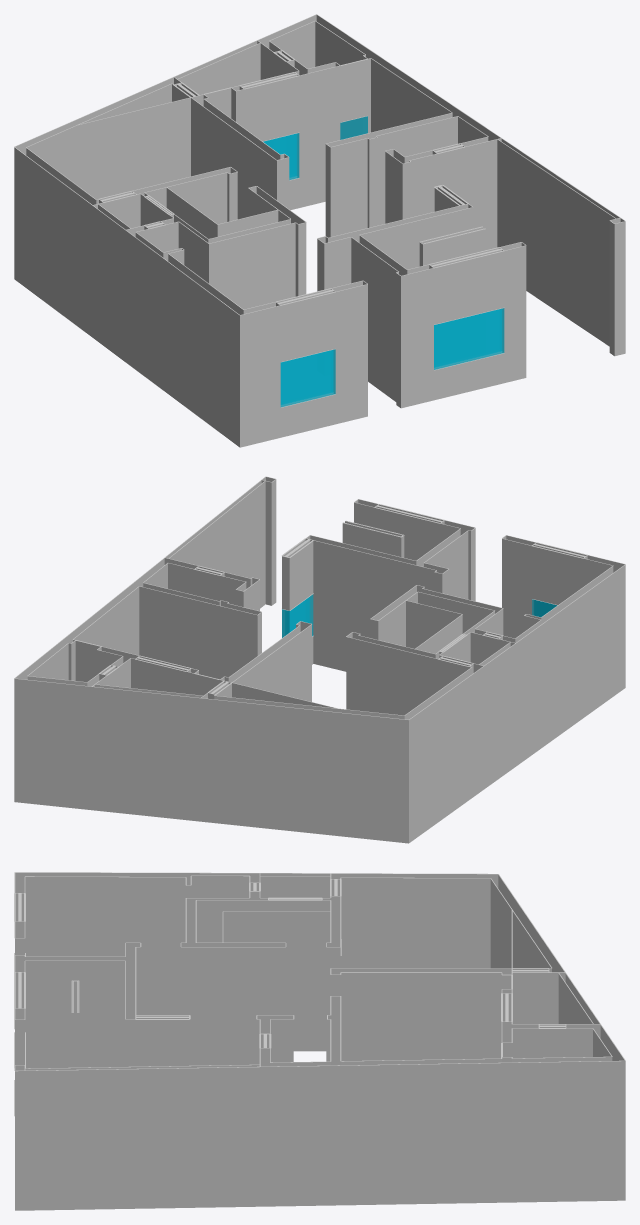
The picture shows the model from 3 angles, top to bottom: view 1: azimuth 30°, elevation 25°; view 2: azimuth 150°, elevation 25°; view 3: azimuth 270°, elevation 25°; orthographic projection. The views are drawn at different scales.
Visible parts, largest first — view 1: walls, windows, roof; view 2: walls, roof, windows; view 3: walls, roof.
Part boxes in pixels (x1,y1,x2,y2): walls: (14,14,625,447); windows: (263,116,504,407); roof: (14,14,625,315); walls: (14,477,625,843); roof: (14,476,625,719); windows: (282,594,557,637); walls: (14,872,625,1210); roof: (14,872,625,1071).
Bounding box in the file's own units: 10.69 × 3.5 × 13.89.
